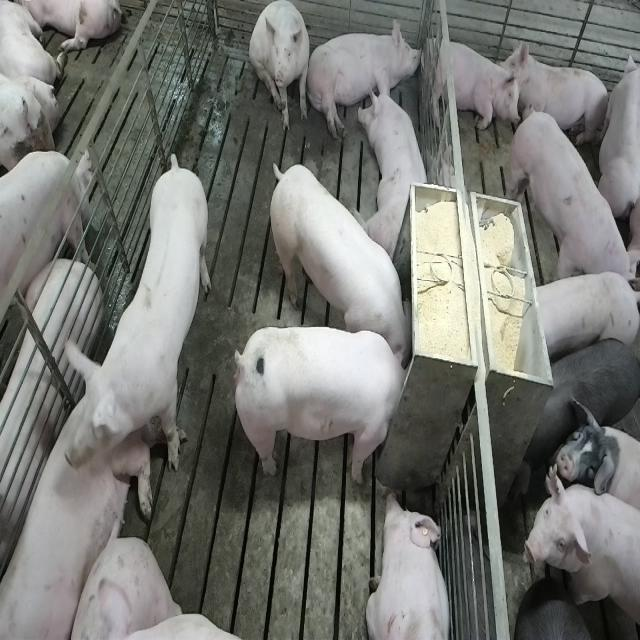Feeding: (265, 160, 412, 363), (240, 324, 418, 486)
Lateral_lying: (306, 14, 424, 142)
Sitting: (250, 1, 312, 136)
Standing: (60, 156, 212, 488), (506, 110, 634, 296), (520, 462, 638, 640), (0, 151, 94, 353), (518, 334, 638, 487), (559, 400, 640, 527), (528, 271, 636, 356)
Sternal_lying: (0, 371, 146, 633), (361, 68, 433, 259), (365, 490, 453, 640), (507, 40, 612, 154), (423, 34, 518, 134)
